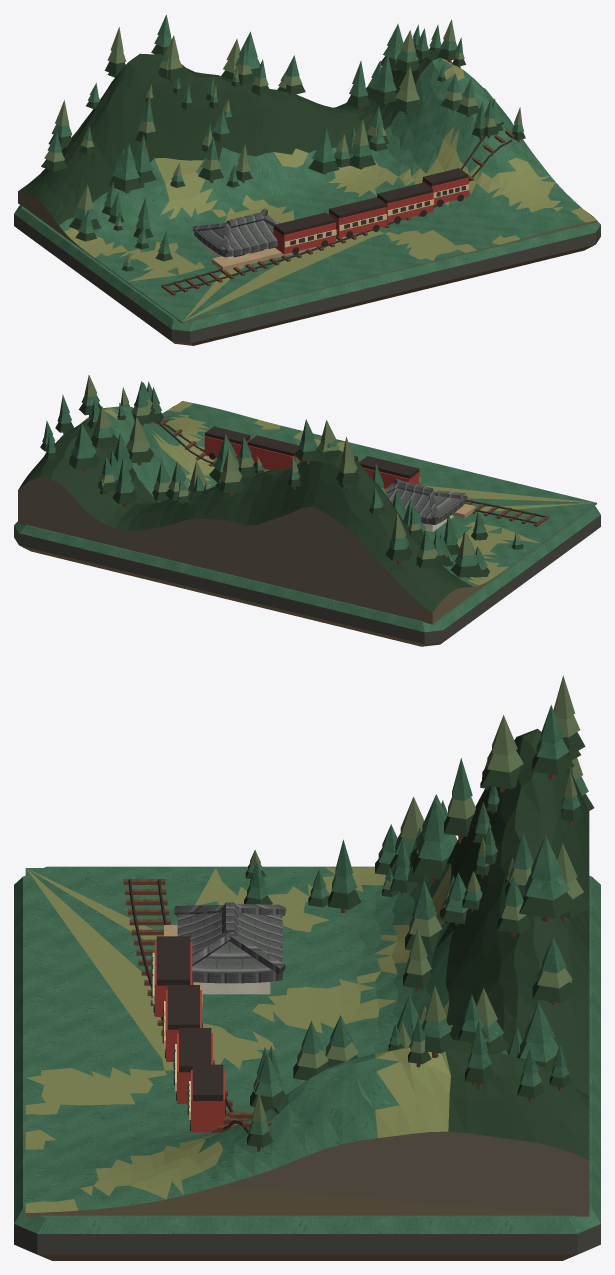
The model's file is alishan.glb.
3 views of the same model, one above another, from view 1: azimuth 30°, elevation 25°; view 2: azimuth 150°, elevation 25°; view 3: azimuth 270°, elevation 25° (orthographic). The views are drawn at different scales.
Visible parts, largest first — view 1: 阿里山·沼平车站; view 2: 阿里山·沼平车站; view 3: 阿里山·沼平车站.
Part boxes in pixels (bbox=[...]): 阿里山·沼平车站: bbox=[14, 14, 600, 345]; 阿里山·沼平车站: bbox=[14, 375, 600, 646]; 阿里山·沼平车站: bbox=[14, 675, 600, 1260].
Bounding box in the file's own units: 6.15 × 2.59 × 4.25.
16 materials, 6 textured.
